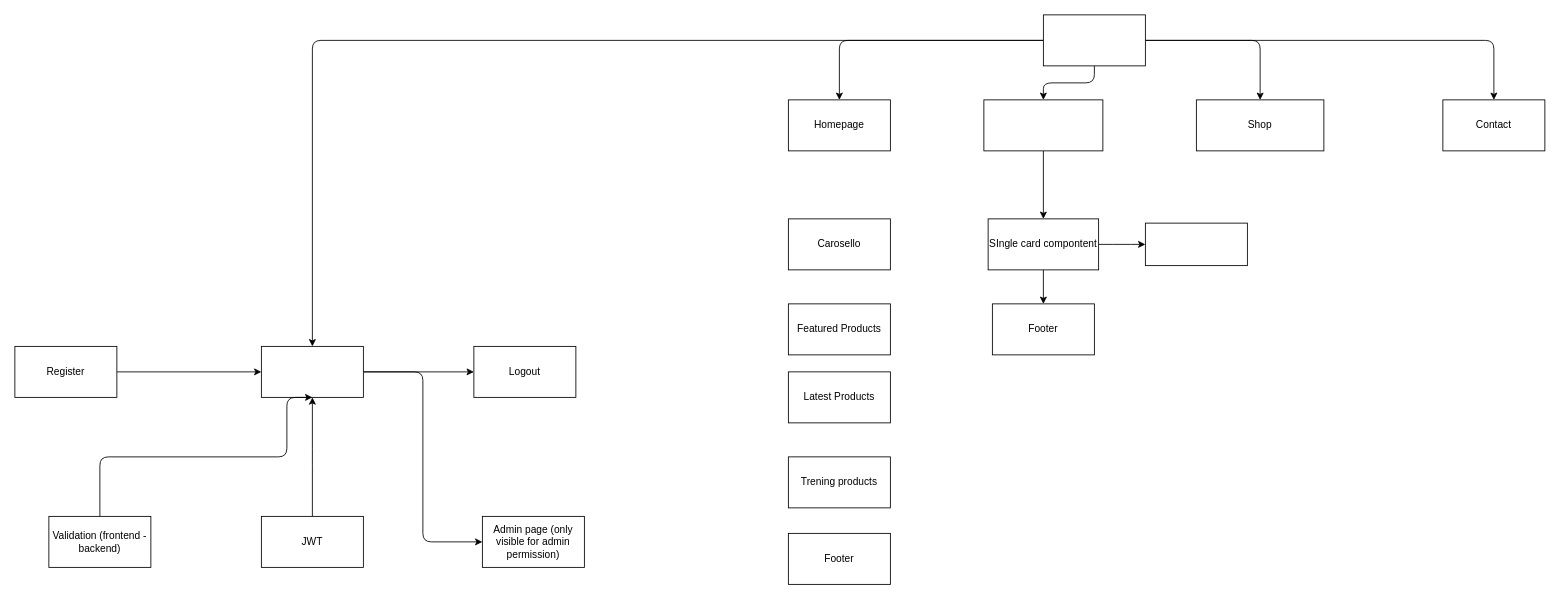
The diagram is 1560 pixels wide and 599 high, and some of its shapes have lost their labels. Each missing label, with the centre of its shape:
Login: the point at 312,371
PAGES: the point at 1094,40
Product Details pages (for each product): the point at 1196,244
Products: the point at 1043,125
